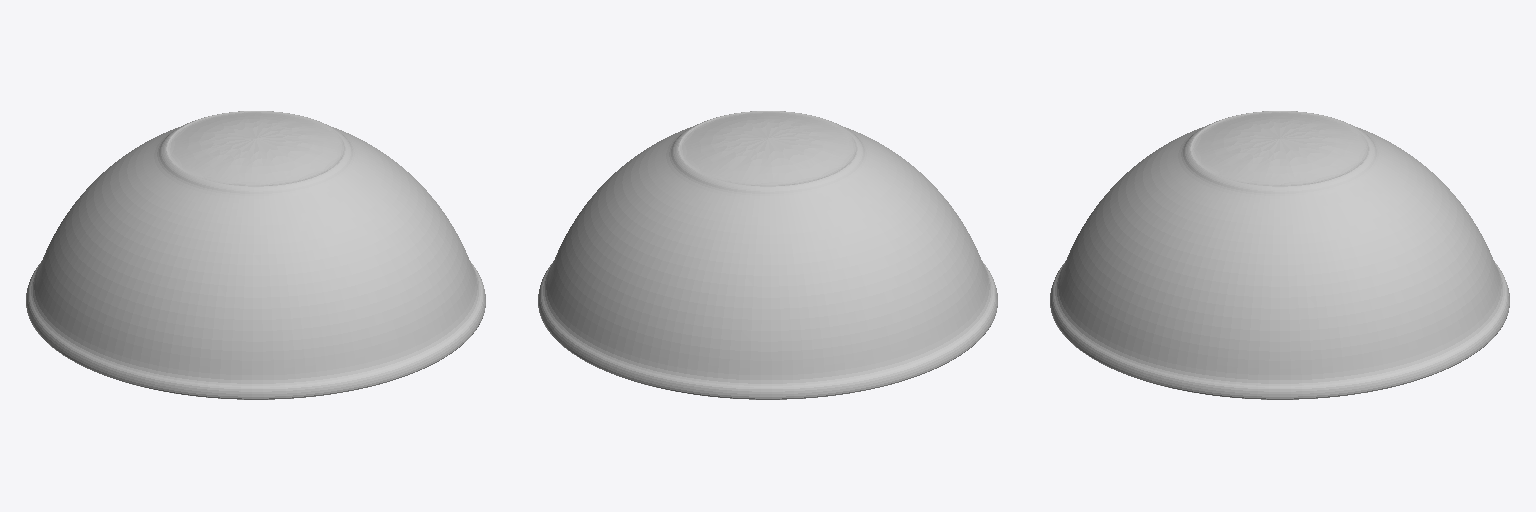
The model's file is penutup.obj.
3 renders of one model, left to right at view 1: azimuth 30°, elevation 25°; view 2: azimuth 150°, elevation 25°; view 3: azimuth 270°, elevation 25°, orthographic.
Visible parts, largest first — view 1: Sphere.001; view 2: Sphere.001; view 3: Sphere.001.
Boxes of the visible parts, x1=… form: Sphere.001: x1=26, y1=111, x2=485, y2=399; Sphere.001: x1=538, y1=111, x2=997, y2=399; Sphere.001: x1=1050, y1=111, x2=1509, y2=399.
Size of the model in its own units: 1.29 by 0.725 by 1.29.